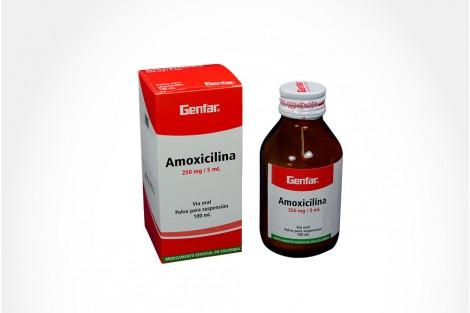Genfar: (160, 94, 240, 264)
